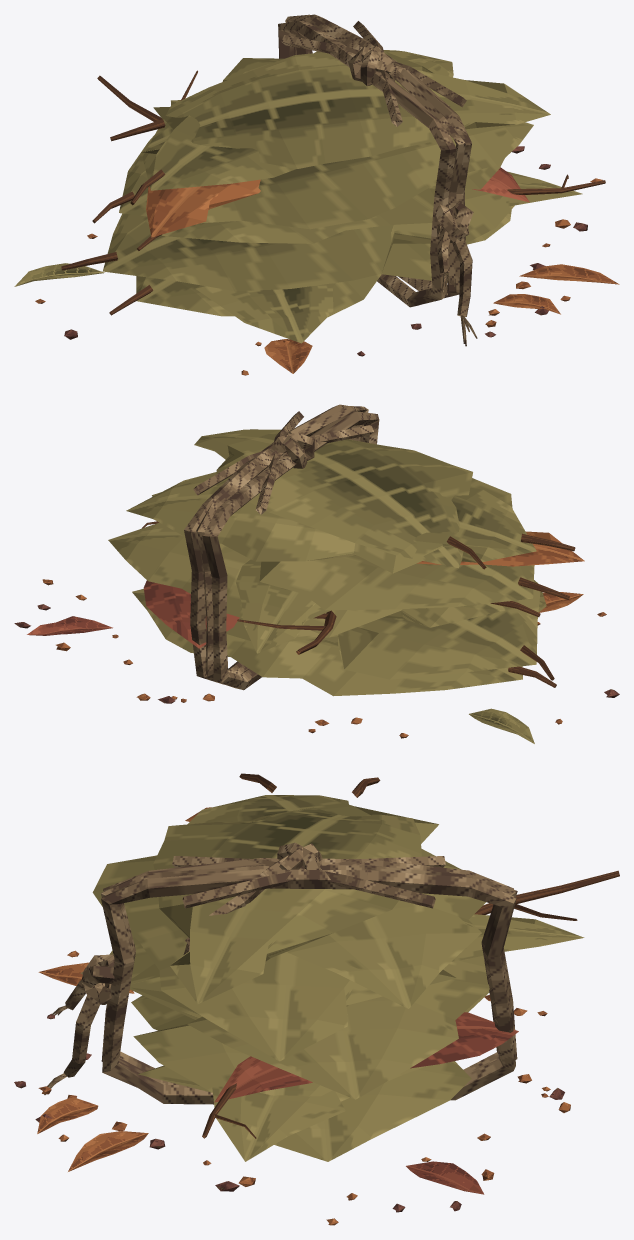
File: SM_AN23_LeafBundle.fbx
The picture shows the model from 3 angles, top to bottom: view 1: azimuth 30°, elevation 25°; view 2: azimuth 150°, elevation 25°; view 3: azimuth 270°, elevation 25°; orthographic projection. The views are drawn at different scales.
Visible parts, largest first — view 1: AN23a_Props; view 2: AN23a_Props; view 3: AN23a_Props.
Boxes of the visible parts, bbox=[...] form: AN23a_Props: bbox=[14, 14, 619, 375]; AN23a_Props: bbox=[14, 404, 619, 743]; AN23a_Props: bbox=[14, 773, 619, 1225].
Bounding box in the file's own units: 1.62 × 0.5941 × 1.26.
